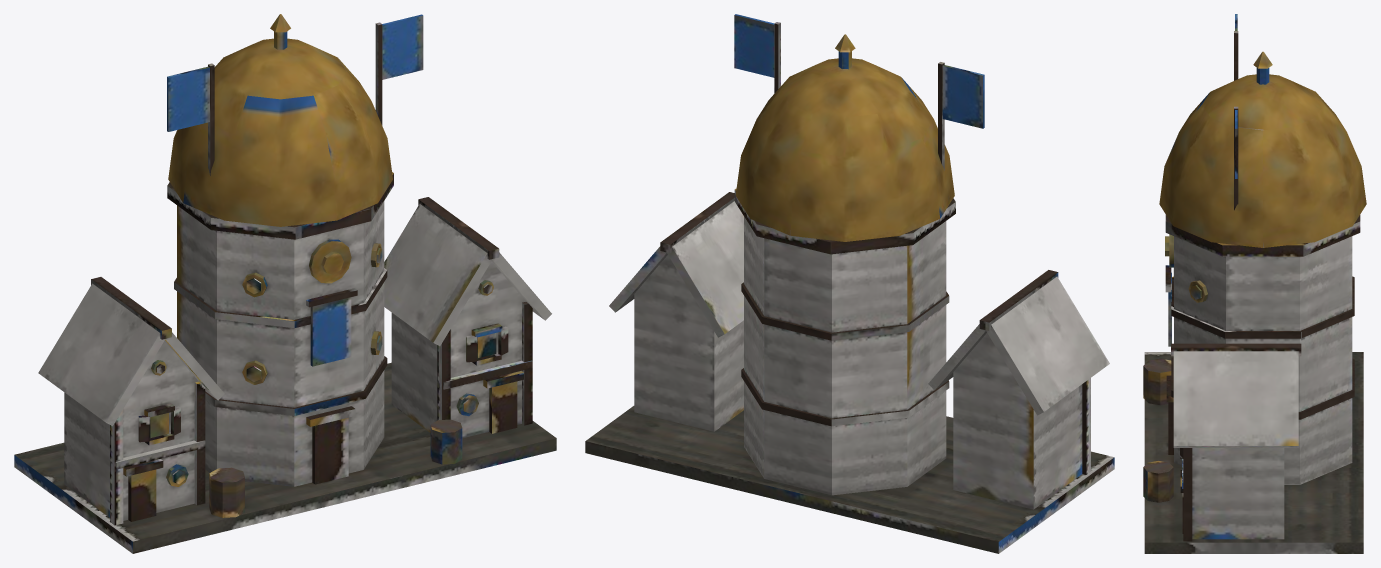
The model's file is pirate_plank_capital_crown.glb.
The picture shows the model from 3 angles, left to right: view 1: azimuth 30°, elevation 25°; view 2: azimuth 150°, elevation 25°; view 3: azimuth 270°, elevation 25°; orthographic projection. The views are drawn at different scales.
Parts seen in each view (by area): view 1: WoodBody, FixedDetails, BrassTrim; view 2: WoodBody, FixedDetails, BrassTrim; view 3: WoodBody, BrassTrim, FixedDetails.
Boxes of the visible parts, x1,y1,x2,y2 form: WoodBody: [38, 201, 551, 520]; FixedDetails: [14, 14, 556, 553]; BrassTrim: [151, 14, 493, 486]; WoodBody: [609, 201, 1109, 509]; FixedDetails: [585, 14, 1114, 553]; BrassTrim: [735, 34, 954, 241]; WoodBody: [1173, 236, 1352, 539]; BrassTrim: [1159, 51, 1366, 302]; FixedDetails: [1143, 14, 1363, 553].
Size of the model in its own units: 0.5316 by 0.502 by 0.25.
3 materials, 3 textured.
